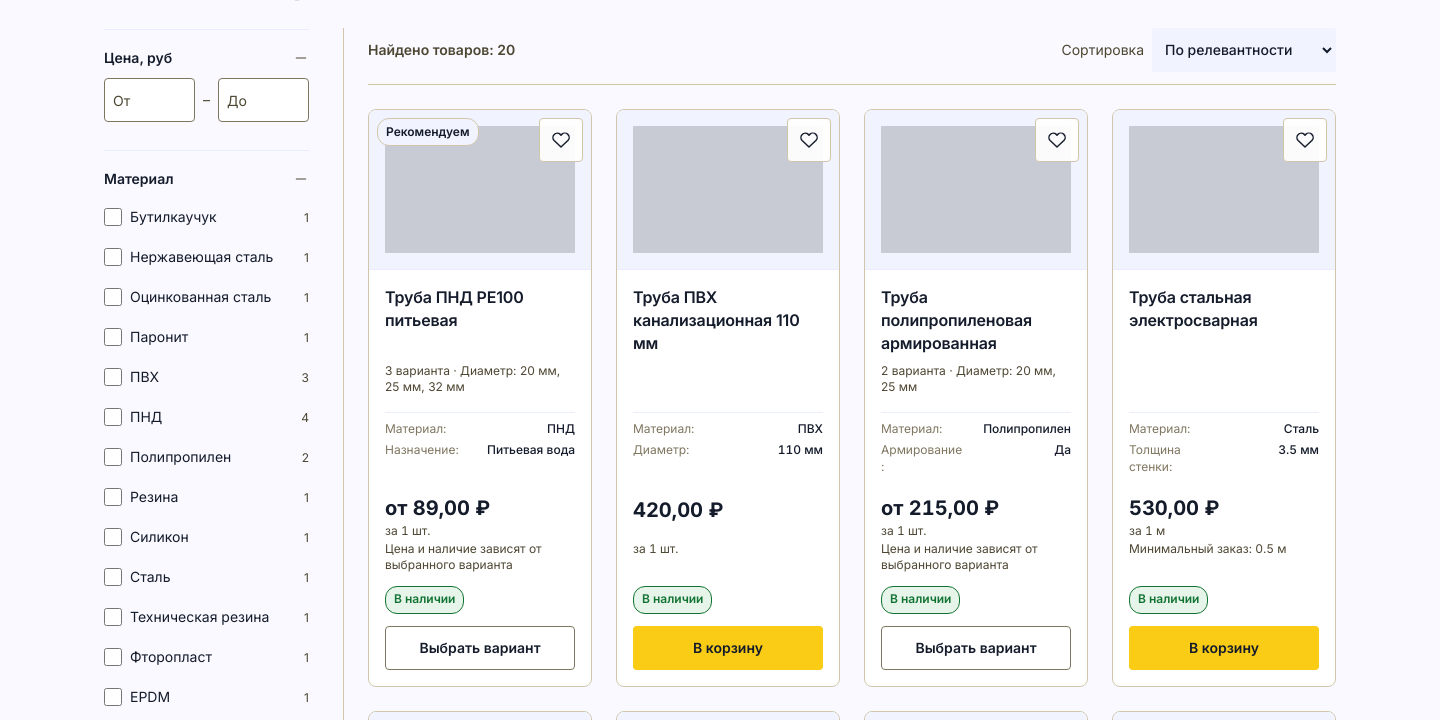
Test: CatalogPage integration › clears one filter group and validates an inverted price range
This screenshot has width=1440, height=720.
(page scrolled)
Expected: the text "Найдено товаров: 20" is shown, left=368, top=40, right=515, bottom=60
Step 1. Click the checkbox named "ПВХ, товаров:" → coordinates (113, 377), box left=104, top=368, right=122, bottom=386
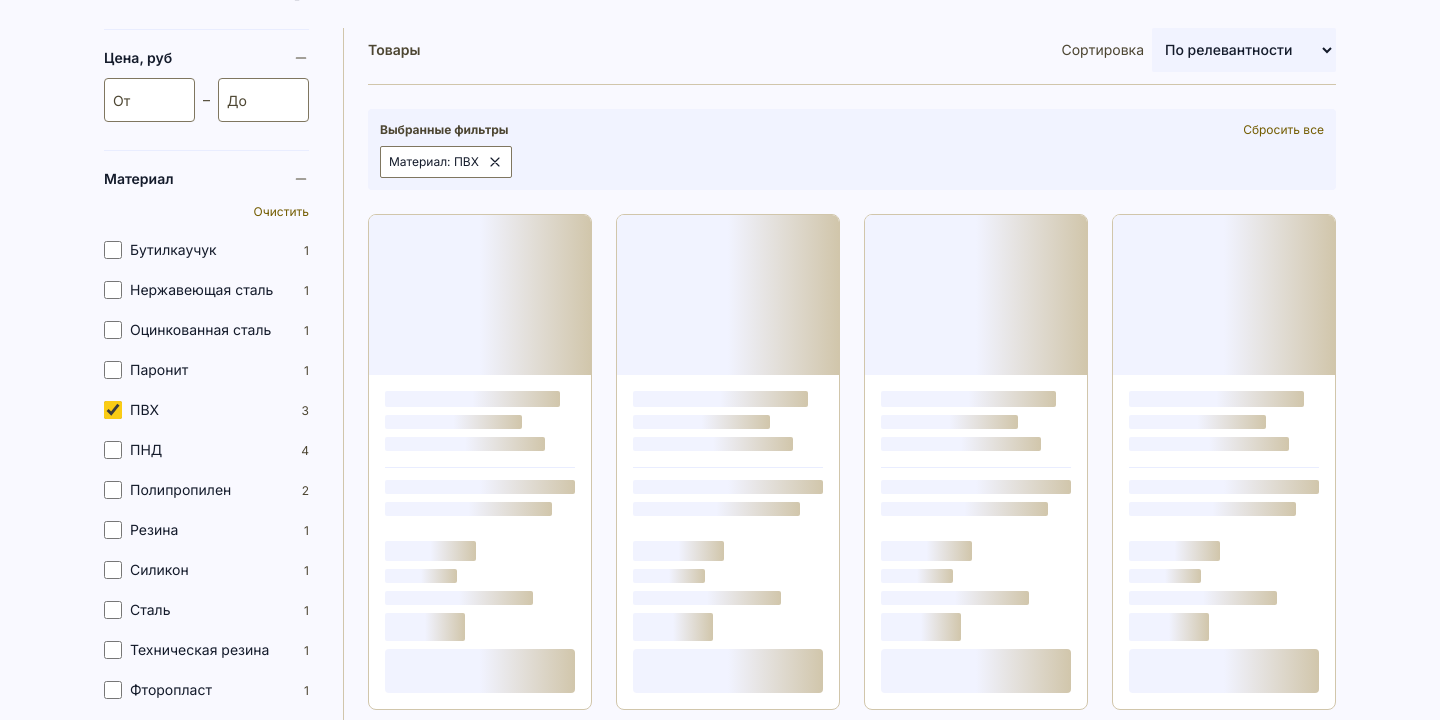
Step 2. Click the button with aria-label "Очистить группу «Материал»" → coordinates (281, 212), box left=254, top=199, right=309, bottom=224
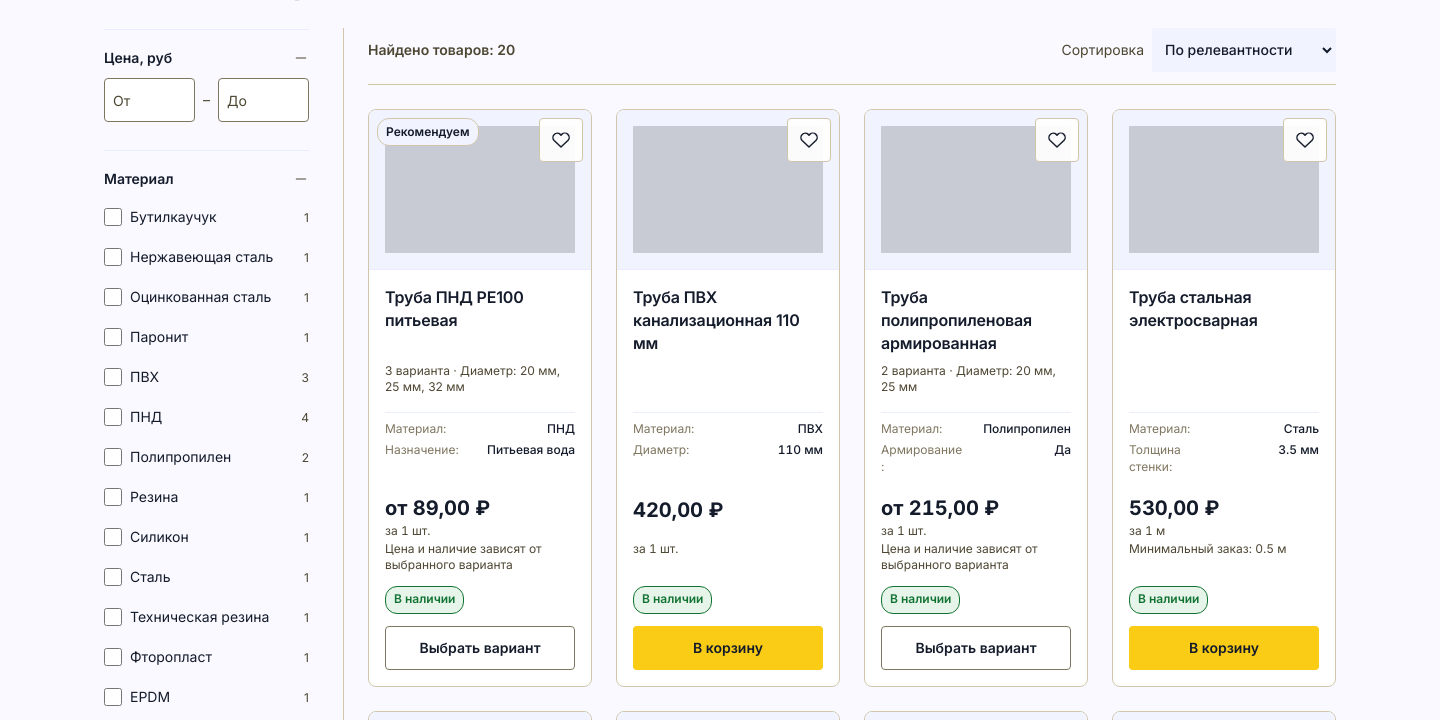
Now the checkbox named "ПВХ, товаров:" is not checked, box left=104, top=368, right=122, bottom=386
Step 3. Type "1000" into the number field named "Цена от, руб" → coordinates (150, 100), box left=104, top=78, right=195, bottom=122
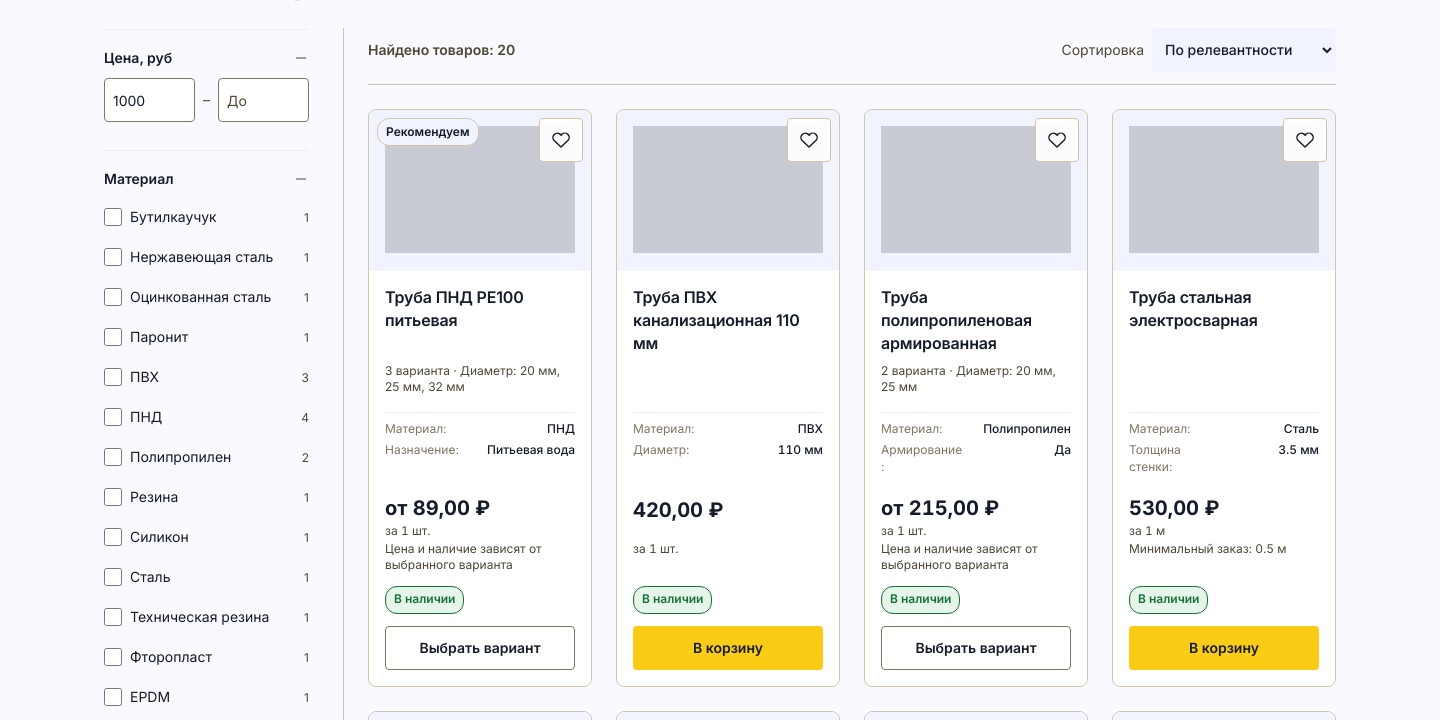
Step 4. Type "500" into the number field named "Цена до, руб" → coordinates (264, 100), box left=218, top=78, right=309, bottom=122
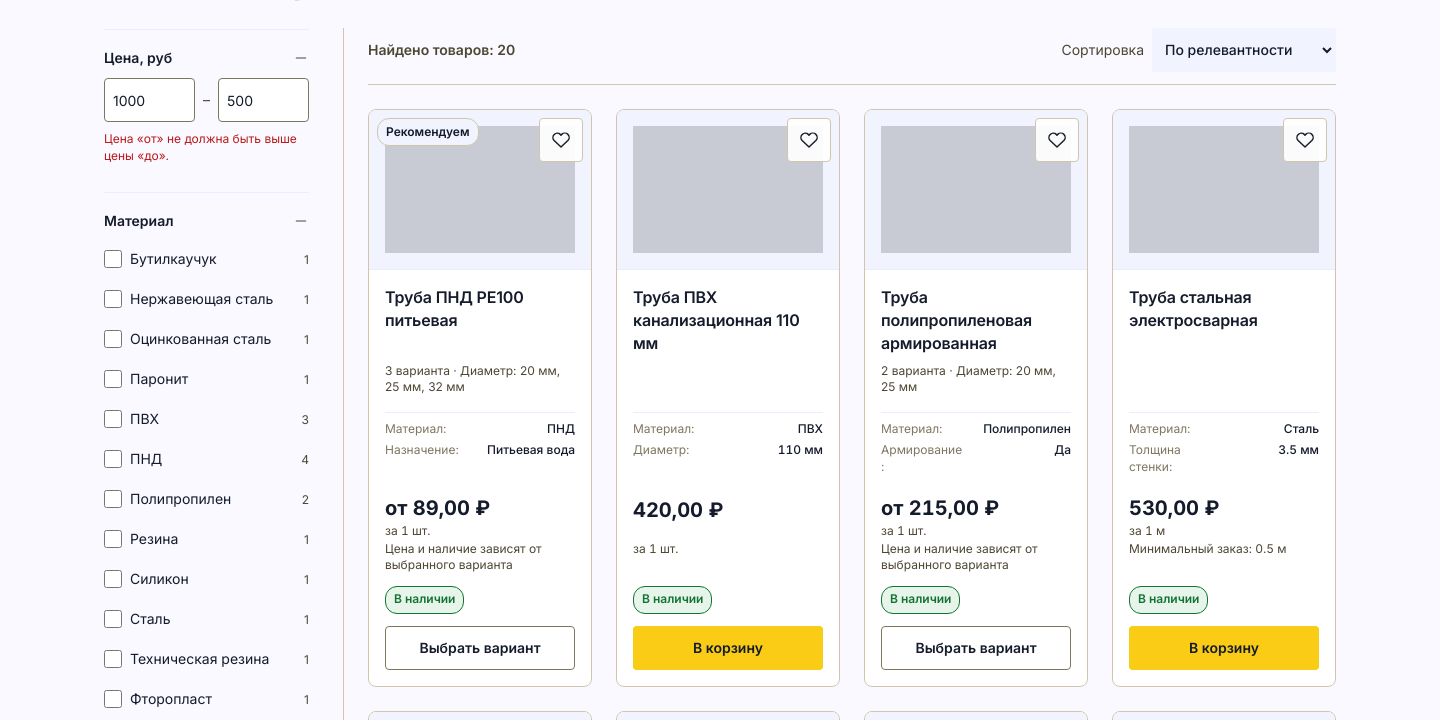
Now the message reads "Цена «от» не должна быть выше цены «до».", box left=104, top=131, right=297, bottom=163
